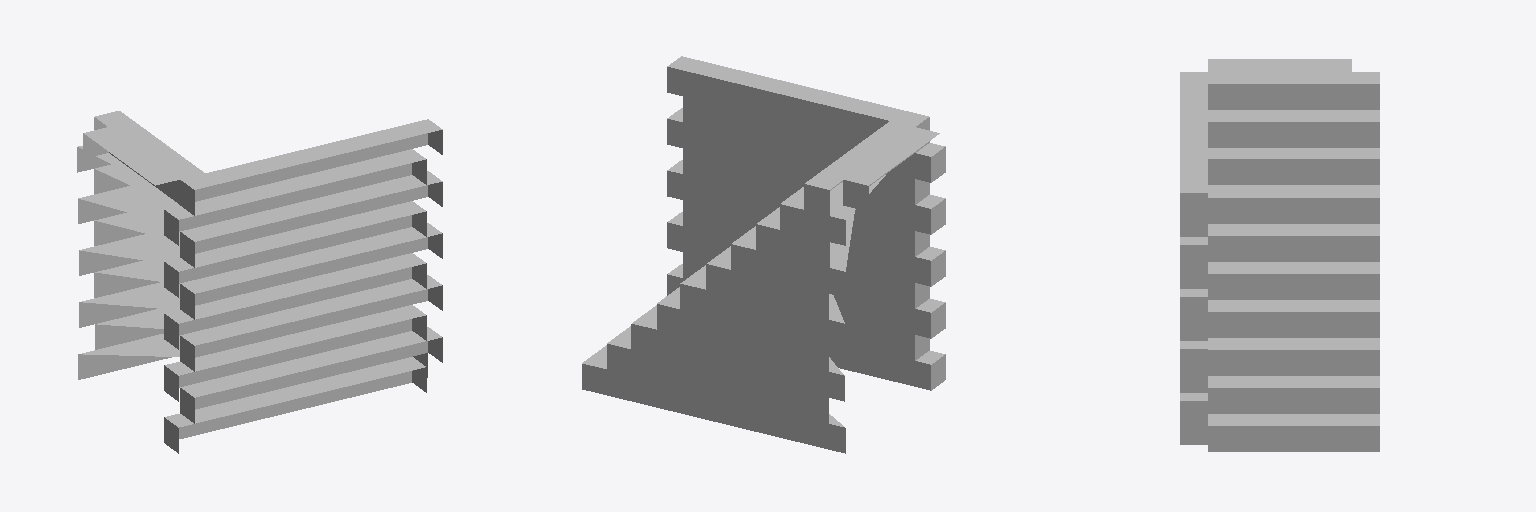
File: Treppe Links.obj
The picture shows the model from 3 angles: view 1: azimuth 30°, elevation 25°; view 2: azimuth 150°, elevation 25°; view 3: azimuth 270°, elevation 25°; orthographic projection.
Parts seen in each view (by area): view 1: Treppe_Links.002; view 2: Treppe_Links.002; view 3: Treppe_Links.002.
Boxes of the visible parts, x1,y1,x2,y2 form: Treppe_Links.002: [77, 111, 442, 453]; Treppe_Links.002: [582, 56, 945, 453]; Treppe_Links.002: [1180, 59, 1379, 451].
Bounding box in the file's own units: 1.65 × 1.5 × 1.05.